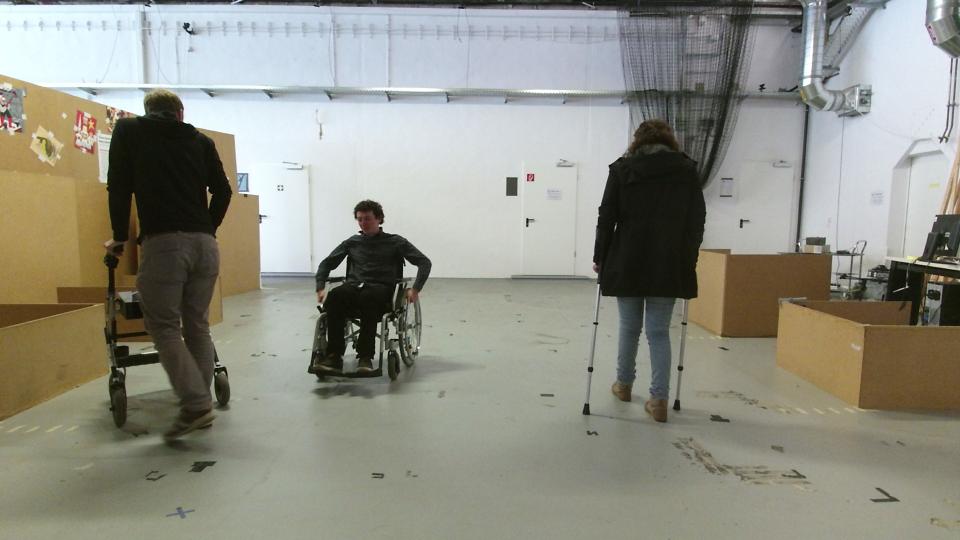crutches: (576, 114, 710, 426)
wheelchair: (303, 195, 438, 383)
